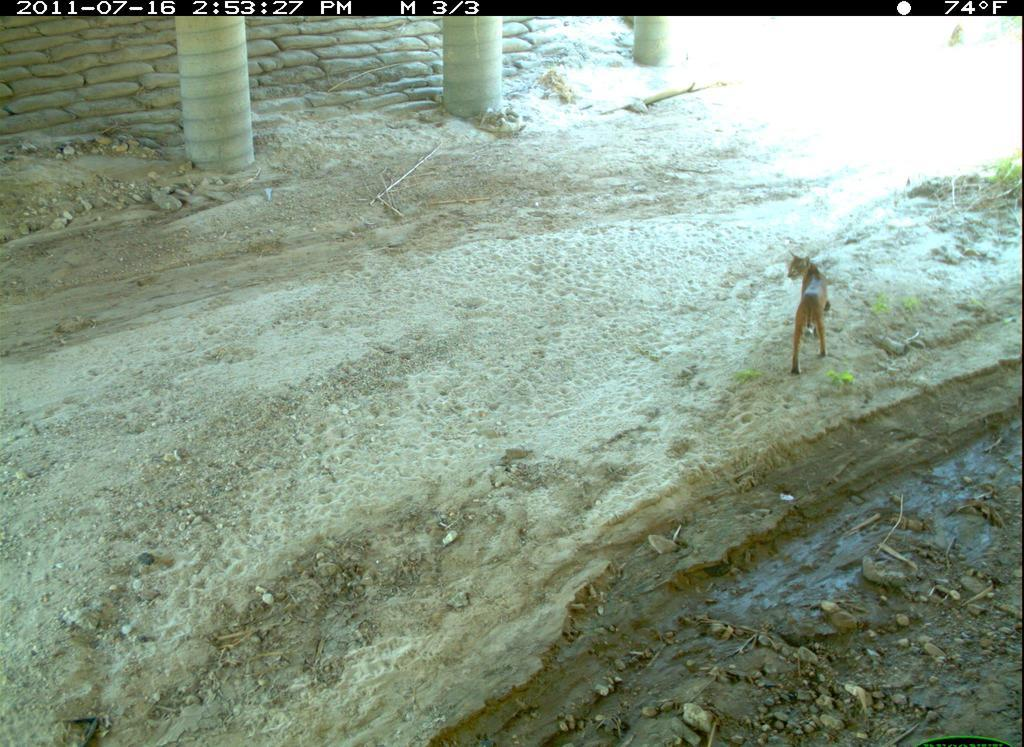bobcat: (776, 236, 853, 397)
